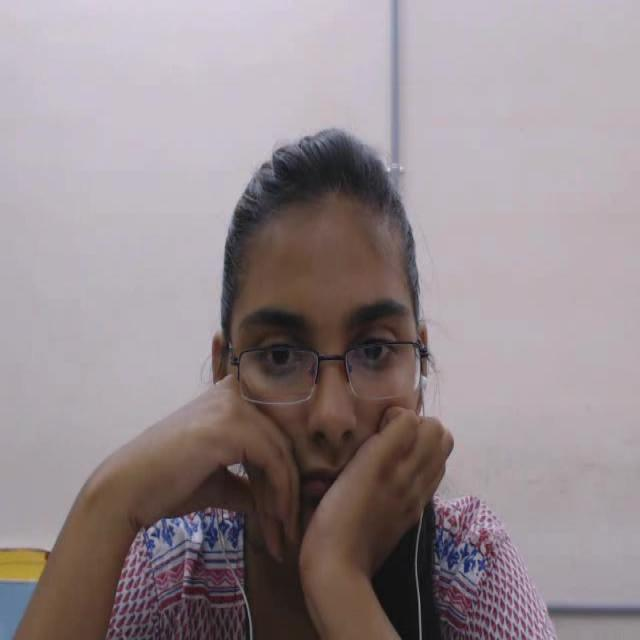Bored: (156, 91, 464, 588)
